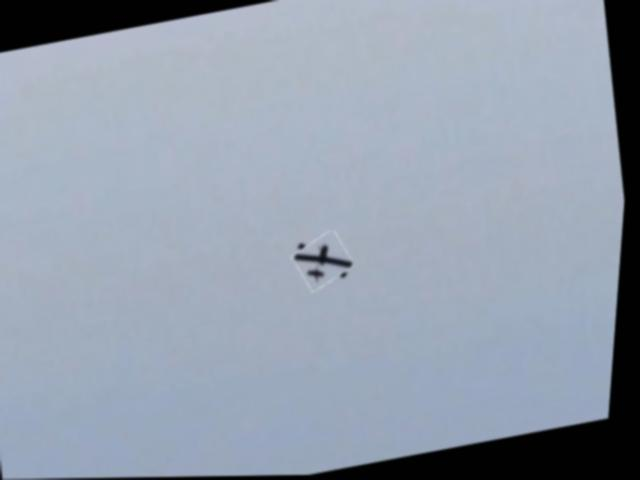insansiz-hava-araci: (293, 230, 359, 291)
